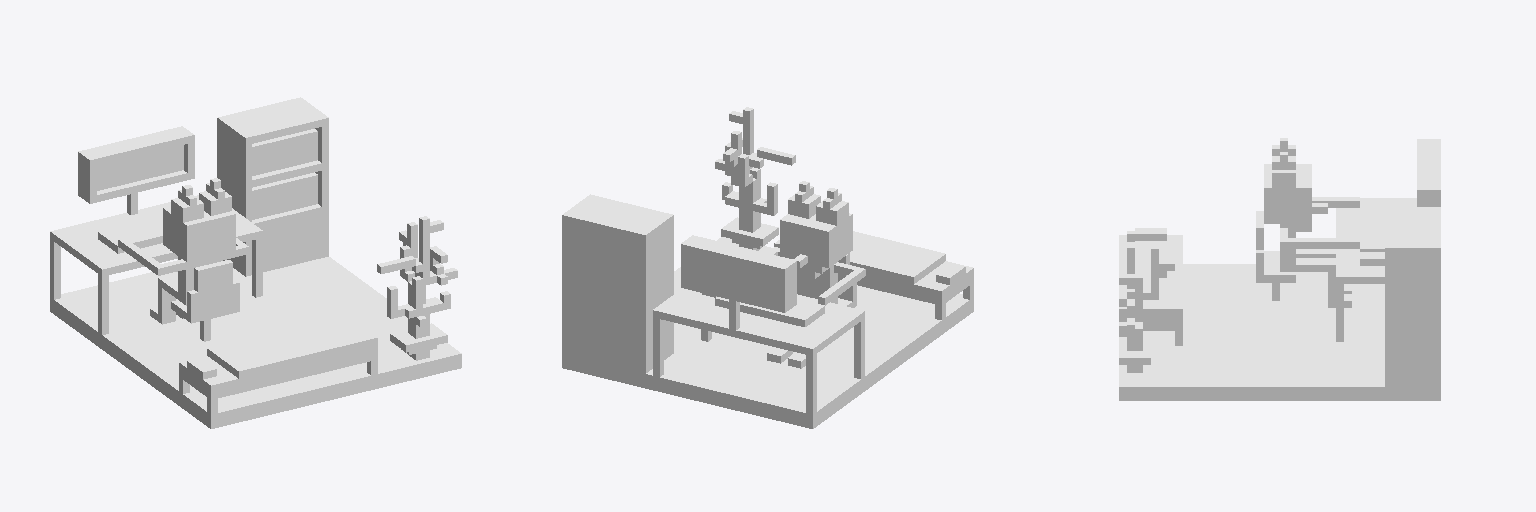
The model's file is myroom.vox.obj.
3 views of the same model, side by side, from view 1: azimuth 30°, elevation 25°; view 2: azimuth 150°, elevation 25°; view 3: azimuth 270°, elevation 25° (orthographic).
Visible parts, largest first — view 1: object 1; view 2: object 1; view 3: object 1.
Part boxes in pixels (x1,y1,x2,y2): object 1: (50, 97, 461, 428); object 1: (562, 107, 973, 428); object 1: (1119, 138, 1440, 400).
Size of the model in its own units: 3.6 by 2.3 by 4.